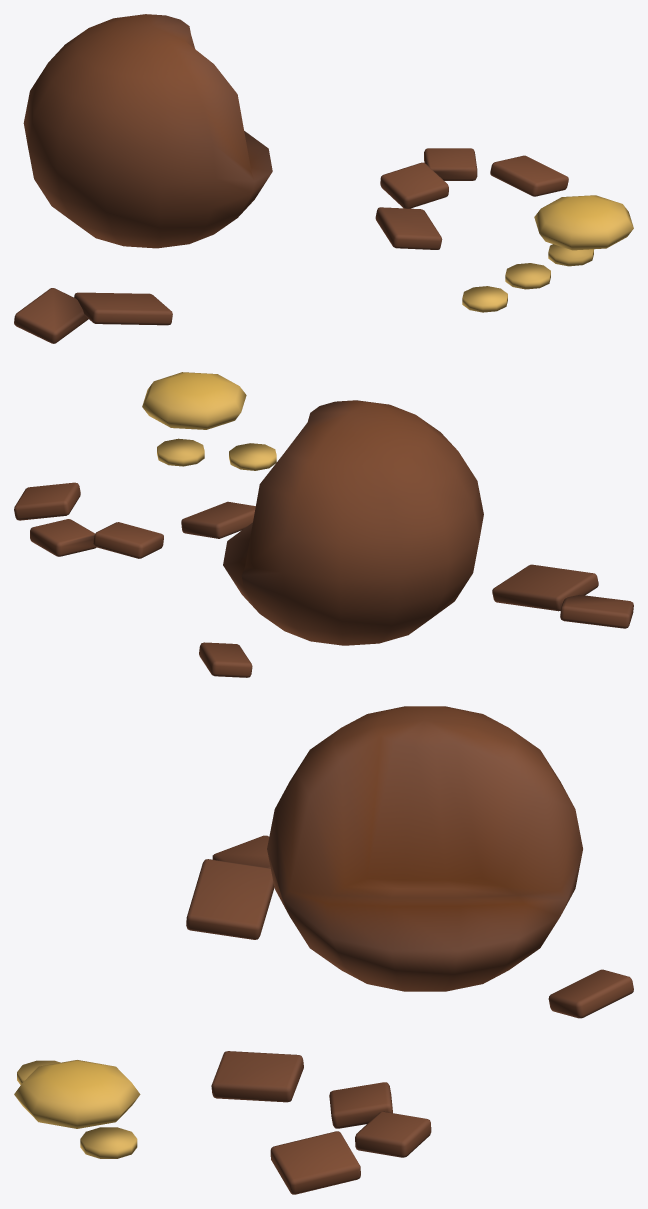
The model's file is kit_d_pottery.glb.
3 views of the same model, one above another, from view 1: azimuth 30°, elevation 25°; view 2: azimuth 150°, elevation 25°; view 3: azimuth 270°, elevation 25° (orthographic). The views are drawn at different scales.
Visible parts, largest first — view 1: kit_d_pottery; view 2: kit_d_pottery; view 3: kit_d_pottery.
Part boxes in pixels (box(x1,y1,x2,y2)): kit_d_pottery: box(14, 14, 633, 343); kit_d_pottery: box(14, 372, 633, 677); kit_d_pottery: box(14, 706, 633, 1194).
Bounding box in the file's own units: 0.5049 × 0.1831 × 0.3921.
